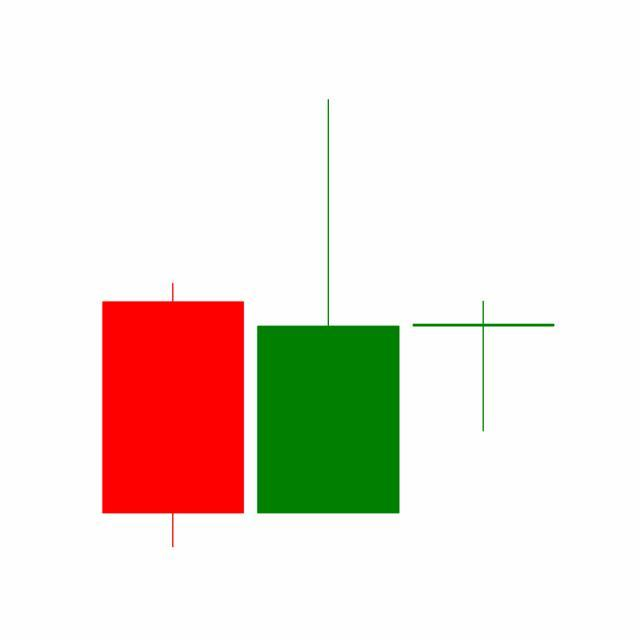Spinning Top: (406, 299, 562, 434)
